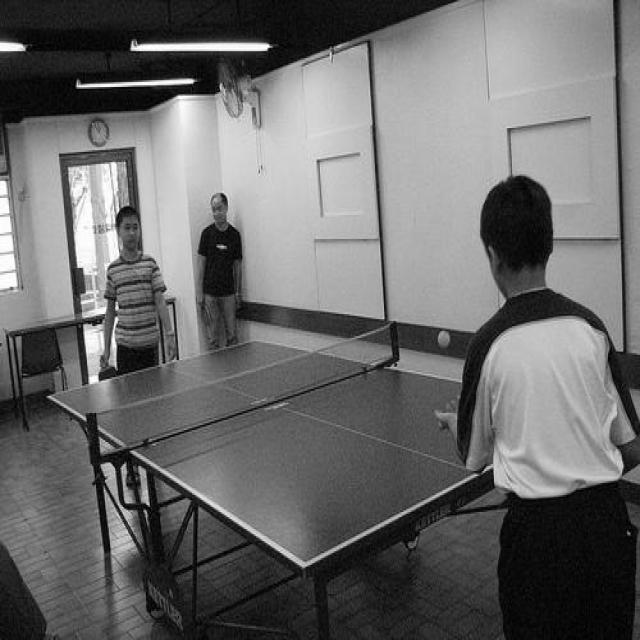ping-pong-ball: (438, 330, 450, 350)
